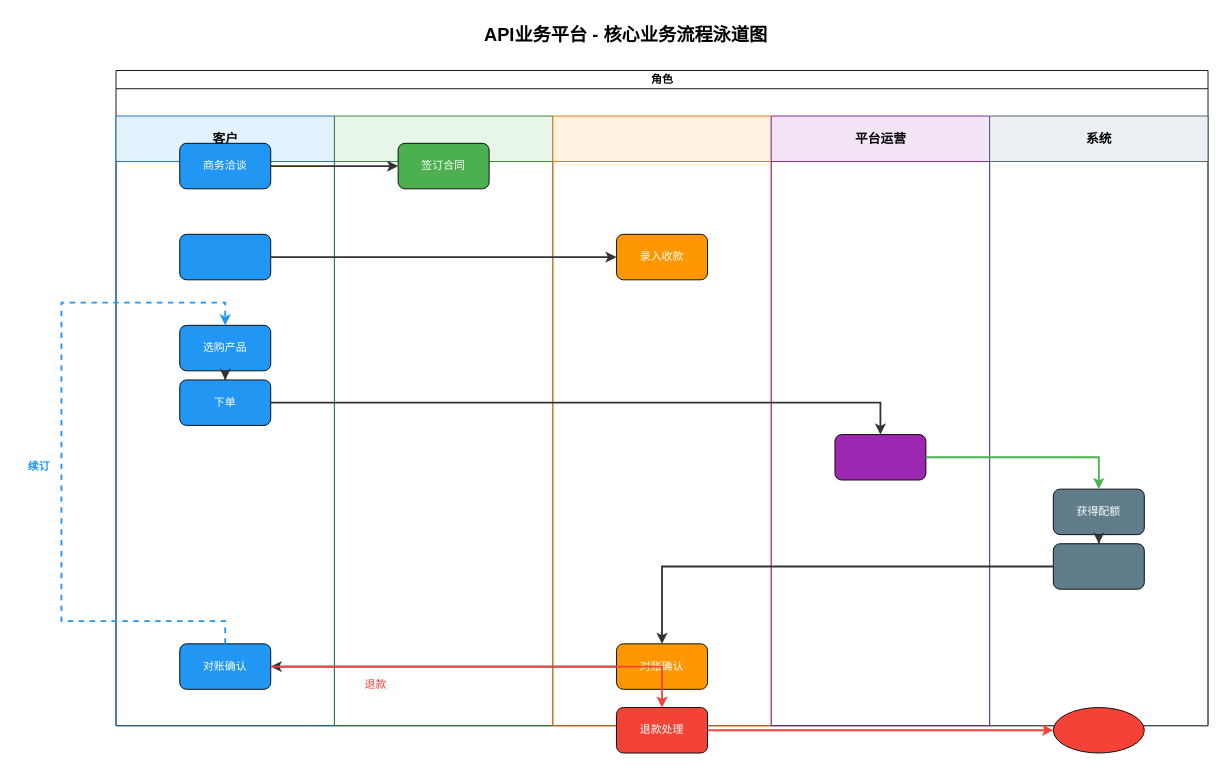
Image size: 1224x769. Some labels were removed from this diagram. Each missing label, with the box of its shape:
使用API: (1052, 543, 1144, 589)
商务/销售: (334, 115, 553, 726)
审核订单: (834, 434, 926, 480)
打款: (179, 233, 271, 280)
结束: (1052, 707, 1144, 753)
财务: (552, 115, 771, 726)
